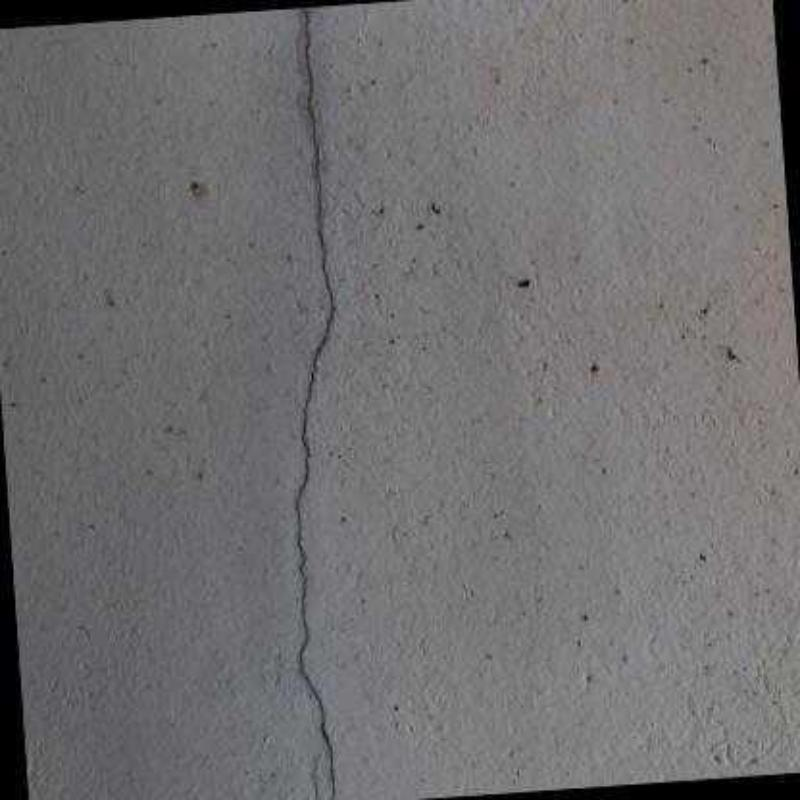crack: (294, 6, 334, 800)
